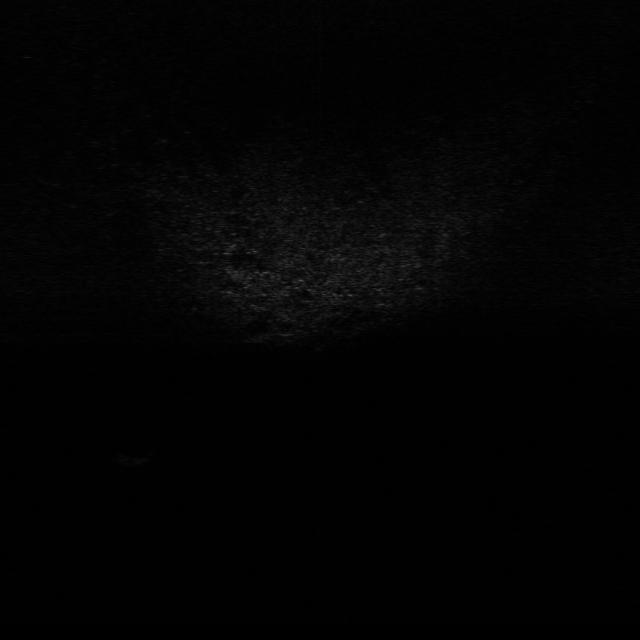cube: (114, 440, 154, 468)
